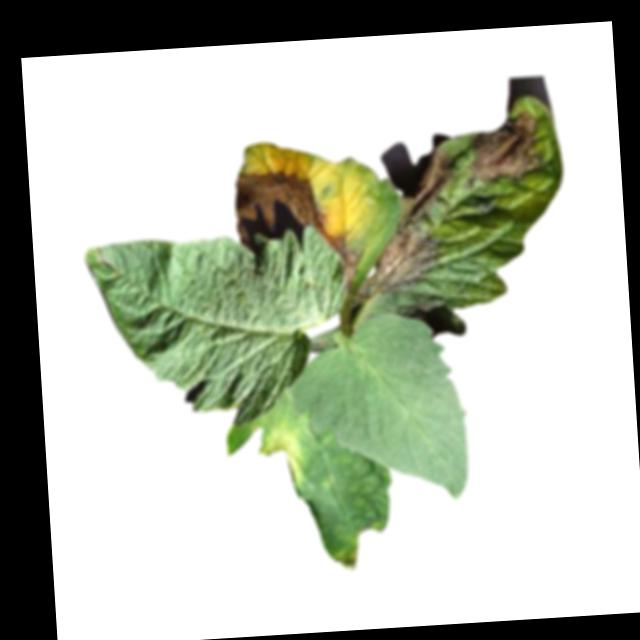Late_blight: (338, 145, 463, 309), (232, 166, 326, 243), (462, 110, 544, 185), (256, 418, 303, 492), (326, 233, 359, 296), (329, 544, 359, 573)
